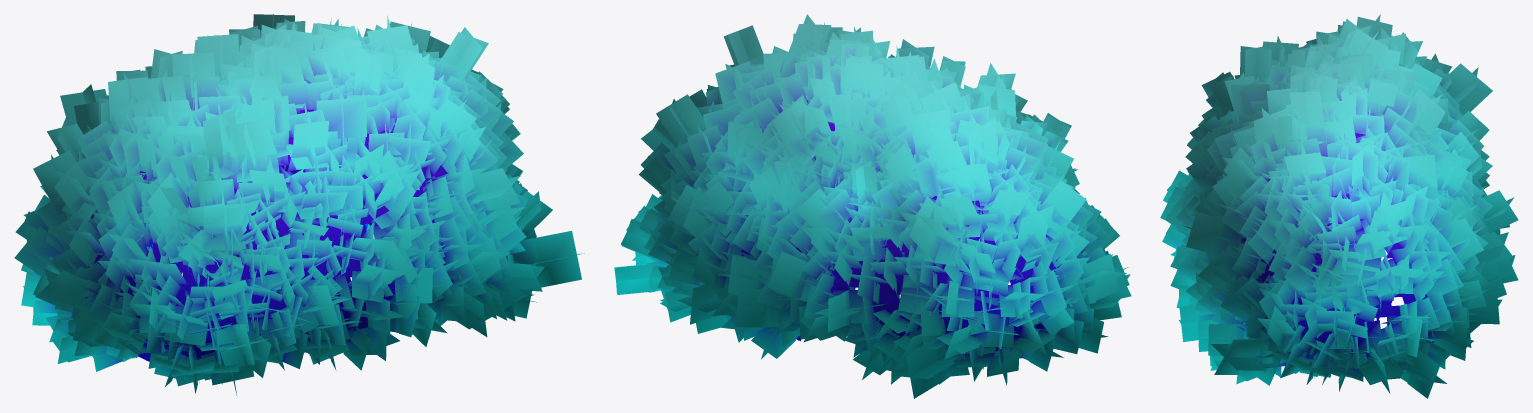
The model's file is SM_Env_Bush_03.FBX.
The picture shows the model from 3 angles, left to right: view 1: azimuth 30°, elevation 25°; view 2: azimuth 150°, elevation 25°; view 3: azimuth 270°, elevation 25°; orthographic projection. The views are drawn at different scales.
Parts seen in each view (by area): view 1: SM_Env_Bush_03_LOD0; view 2: SM_Env_Bush_03_LOD0; view 3: SM_Env_Bush_03_LOD0.
Part boxes in pixels (x1,y1,x2,y2): SM_Env_Bush_03_LOD0: (14,14,584,395); SM_Env_Bush_03_LOD0: (614,14,1131,398); SM_Env_Bush_03_LOD0: (1160,14,1518,398).
Size of what is drawn, in the model's own units: 583 by 408 by 320.
